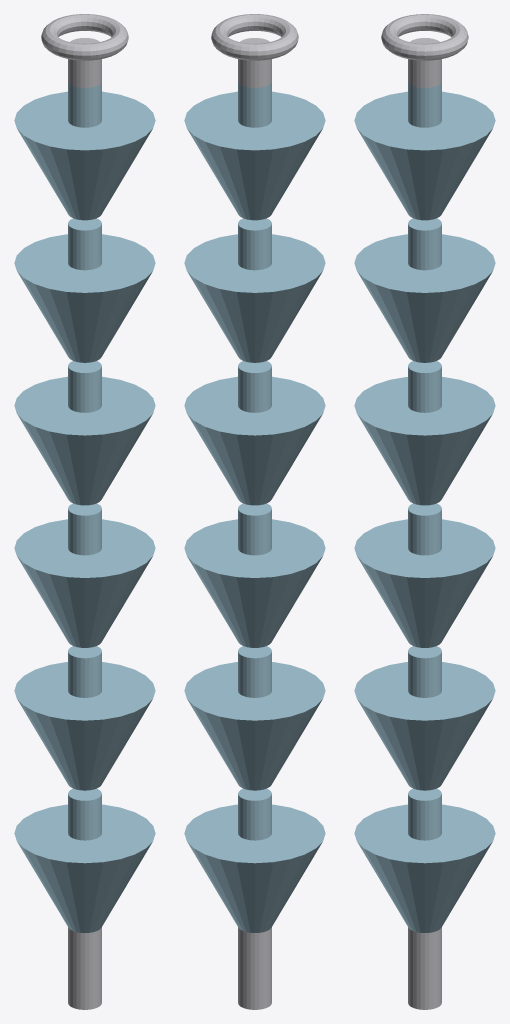
File: Cadena_760mm.fbx
The picture shows the model from 3 angles, left to right: view 1: azimuth 30°, elevation 25°; view 2: azimuth 150°, elevation 25°; view 3: azimuth 270°, elevation 25°; orthographic projection.
Parts seen in each view (by area): view 1: Cadena_760mm; view 2: Cadena_760mm; view 3: Cadena_760mm.
Boxes of the visible parts, <box> form: Cadena_760mm: <box>14,14,155,1009</box>; Cadena_760mm: <box>184,14,325,1009</box>; Cadena_760mm: <box>354,14,495,1009</box>.
Bounding box in the file's own units: 10 × 76 × 10.
